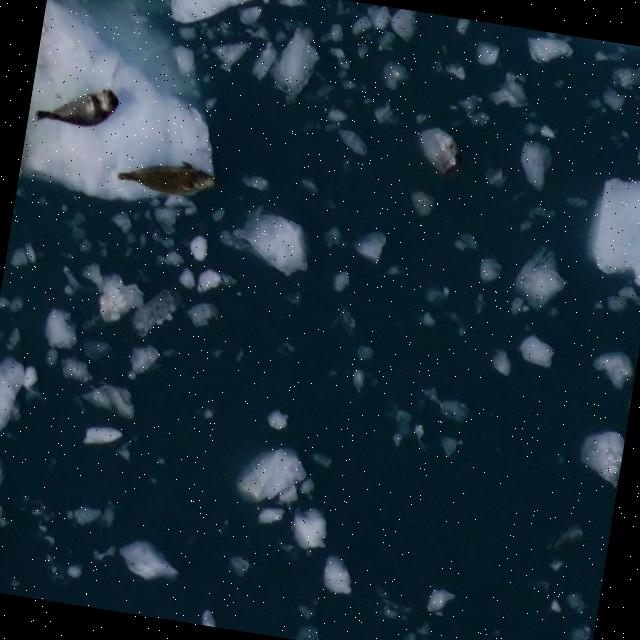seal: (33, 84, 126, 142), (115, 152, 217, 200)
